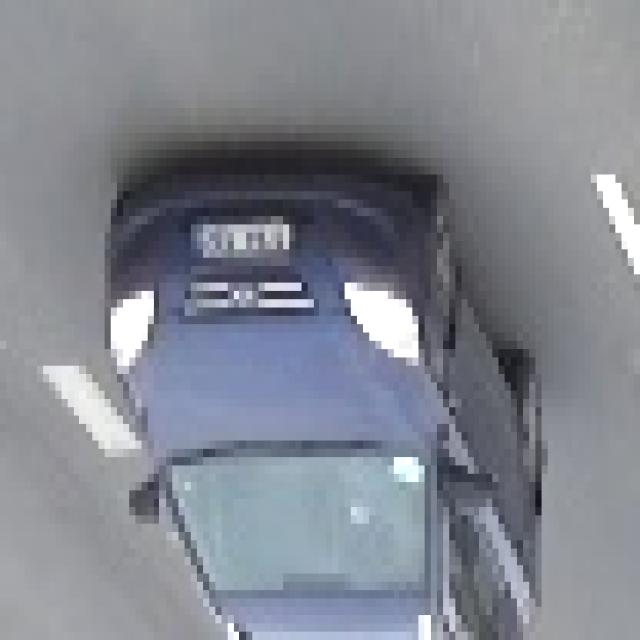blue: (106, 153, 542, 640)
